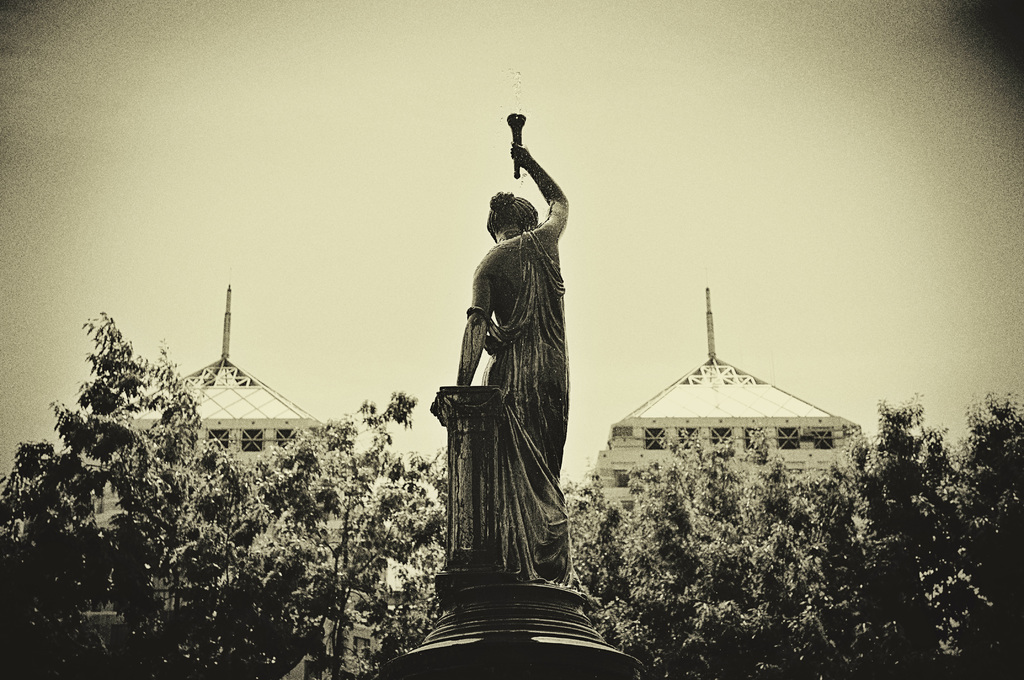Tree: (0, 314, 1023, 679)
